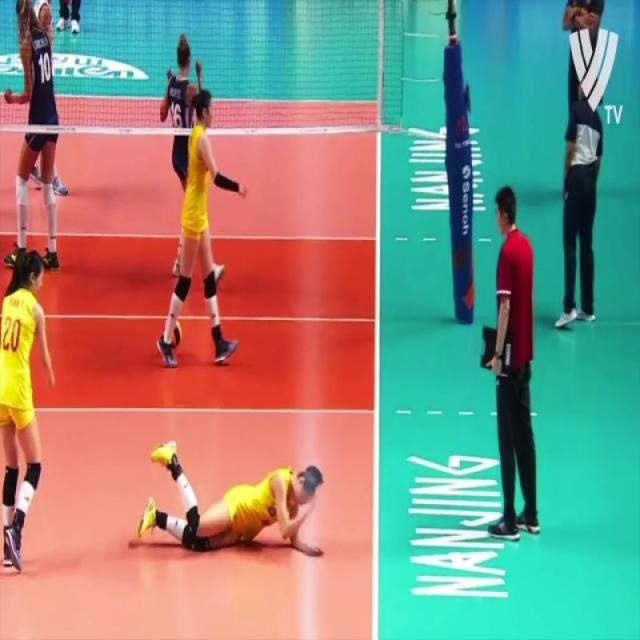volleyball: (166, 316, 183, 349)
